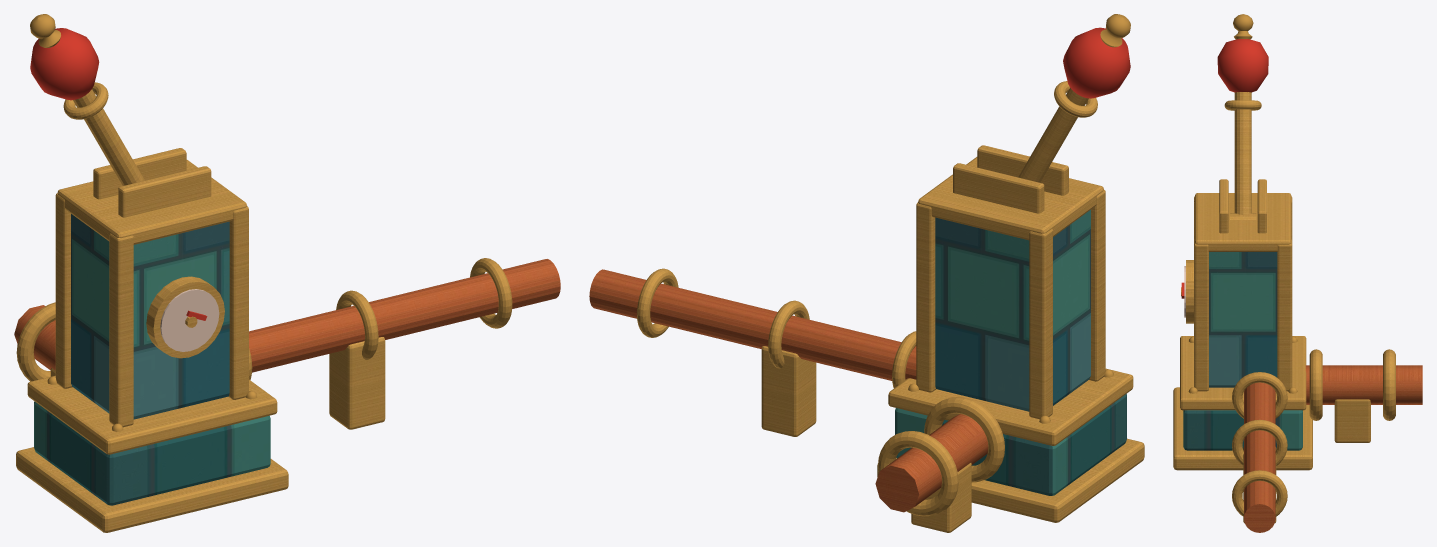
Rendered from act2_pressure_lever.glb.
3 views of the same model, side by side, from view 1: azimuth 30°, elevation 25°; view 2: azimuth 150°, elevation 25°; view 3: azimuth 270°, elevation 25° (orthographic). The views are drawn at different scales.
Parts seen in each view (by area): view 1: SM_Lever_Body, ANIM_Lever_Handle_Mesh; view 2: SM_Lever_Body, ANIM_Lever_Handle_Mesh; view 3: SM_Lever_Body, ANIM_Lever_Handle_Mesh.
Part boxes in pixels (bbox=[...]): SM_Lever_Body: bbox=[14, 148, 560, 532]; ANIM_Lever_Handle_Mesh: bbox=[30, 14, 144, 185]; SM_Lever_Body: bbox=[589, 145, 1144, 532]; ANIM_Lever_Handle_Mesh: bbox=[1018, 14, 1130, 182]; SM_Lever_Body: bbox=[1173, 179, 1422, 532]; ANIM_Lever_Handle_Mesh: bbox=[1217, 14, 1268, 219].
Bounding box in the file's own units: 1.42 × 1.26 × 0.75.
Materials: 5 (3 with a texture image).
